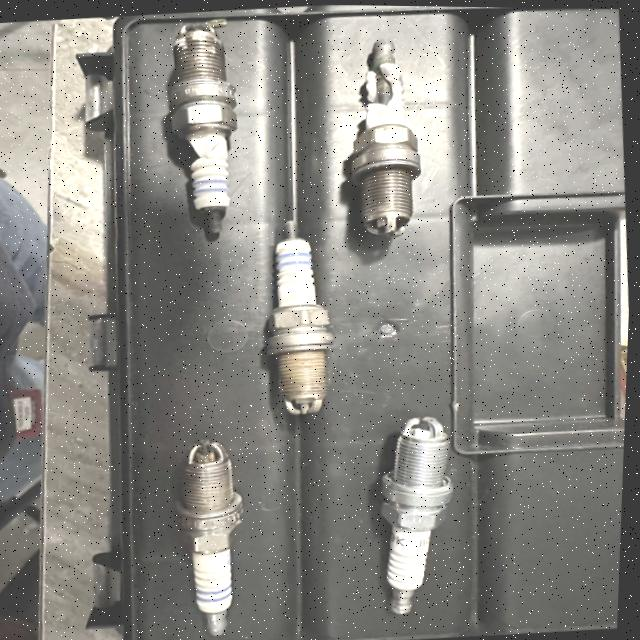damaged_spark-plug: (156, 21, 253, 246), (335, 37, 429, 238)
spark-plug: (370, 411, 469, 615), (252, 215, 340, 413), (174, 438, 252, 639)
